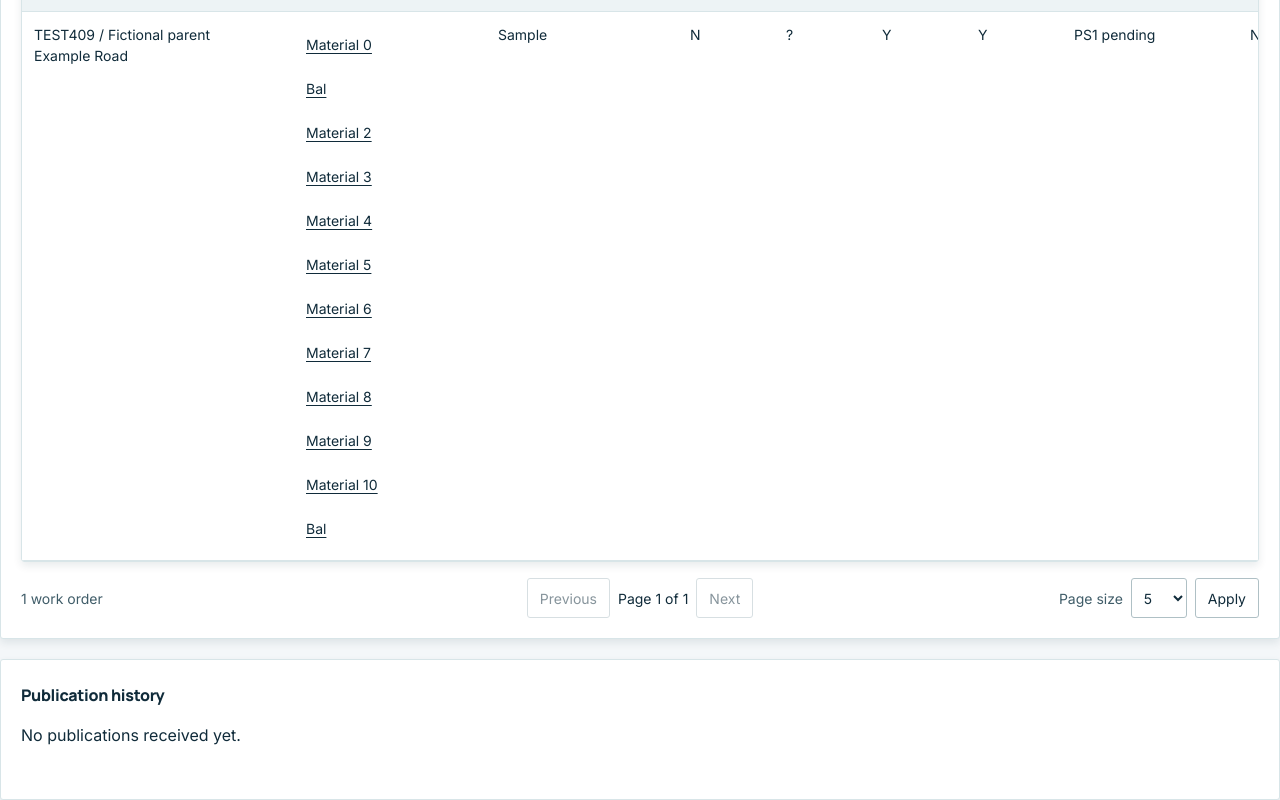
it: published Work Orders tables › keeps a job and all separate material previews together on one row and one page
(page scrolled)
Expected: the button "Material 5" is shown, [306,244,371,284]
Click the button with aria-label "View material description: Material 10".
click(342, 484)  # box [306,464,378,504]
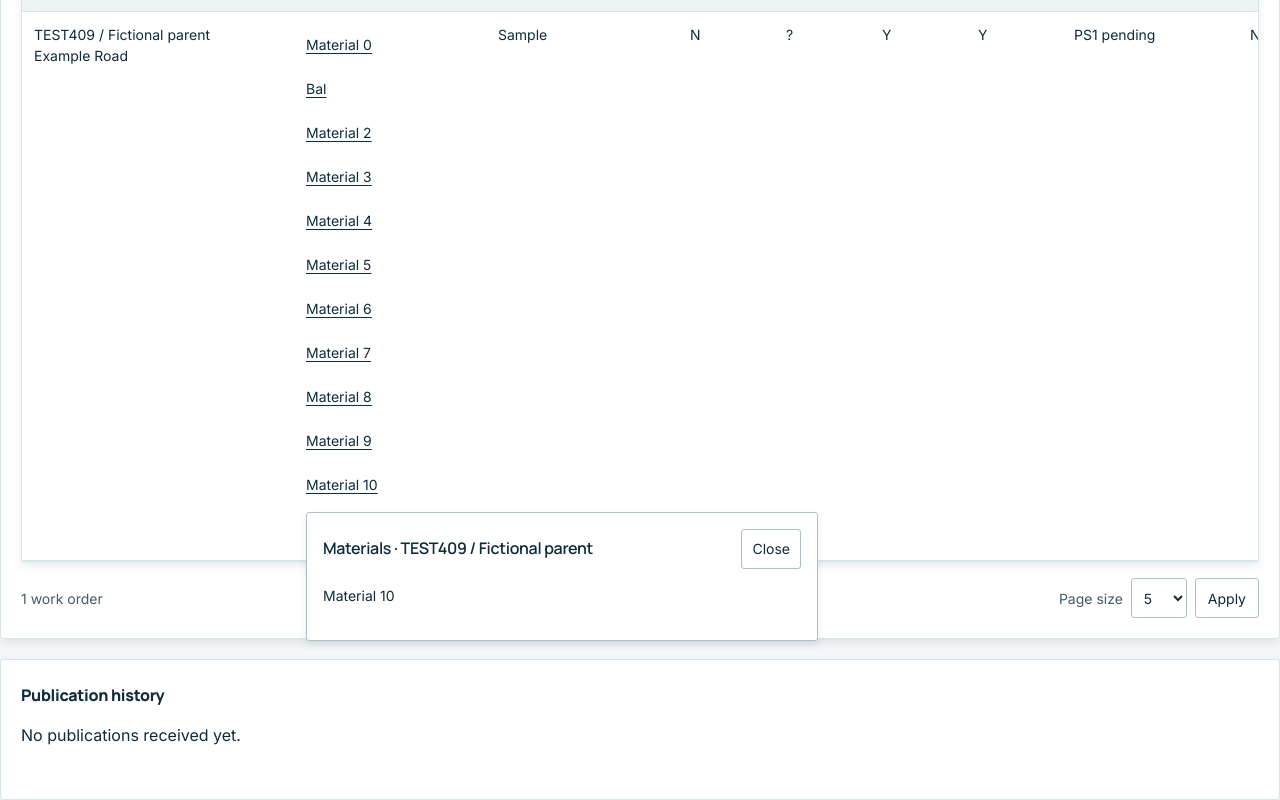
Expected: the text "1 work order" is shown, [21,590,103,607]
Expected: the dialog shows "Material 10", [323,587,395,604]
